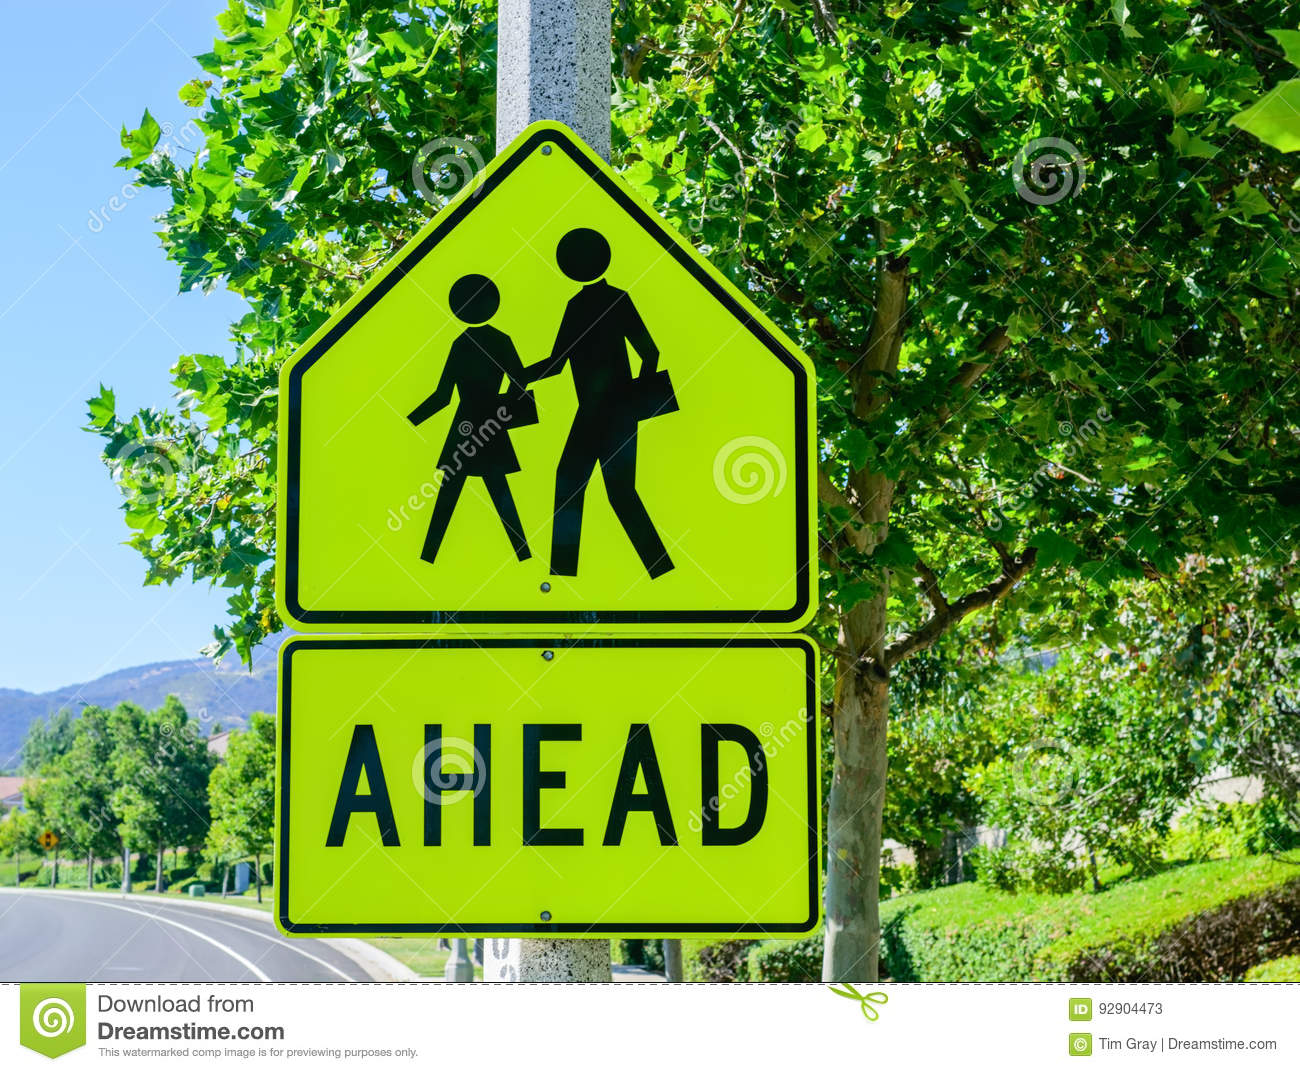slow: (272, 120, 821, 632)
